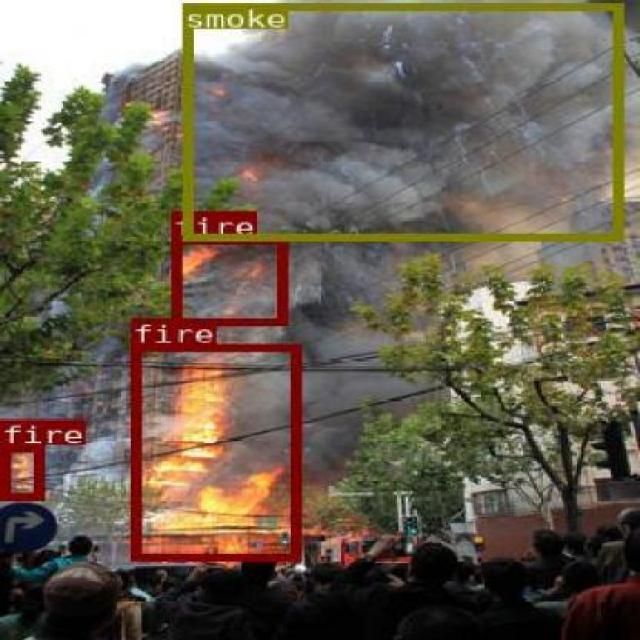Fire: (130, 343, 298, 559), (169, 236, 285, 324), (0, 443, 40, 499)
Smoke: (204, 15, 614, 228), (310, 259, 420, 429)
